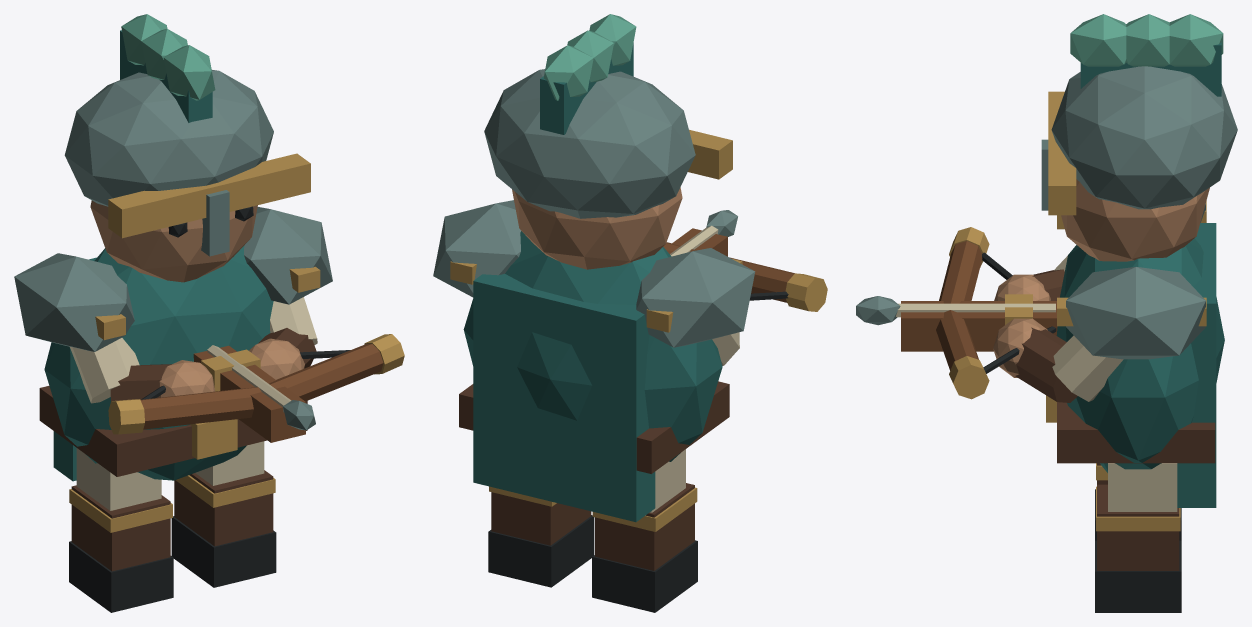
File: frontier-squad.glb
3 views of the same model, side by side, from view 1: azimuth 30°, elevation 25°; view 2: azimuth 150°, elevation 25°; view 3: azimuth 270°, elevation 25° (orthographic). The views are drawn at different scales.
Visible parts, largest first — view 1: surface-squad-body, surface-squad-weapon, surface-squad-left-foot, surface-squad-right-foot; view 2: surface-squad-body, surface-squad-left-foot, surface-squad-right-foot, surface-squad-weapon; view 3: surface-squad-body, surface-squad-weapon, surface-squad-right-foot.
Part boxes in pixels (x1=…): surface-squad-body: x1=14, y1=14, x2=332, y2=481; surface-squad-weapon: x1=70, y1=297, x2=404, y2=442; surface-squad-left-foot: x1=69, y1=448, x2=173, y2=612; surface-squad-right-foot: x1=171, y1=441, x2=276, y2=587; surface-squad-body: x1=433, y1=14, x2=755, y2=522; surface-squad-left-foot: x1=592, y1=449, x2=697, y2=612; surface-squad-right-foot: x1=488, y1=486, x2=594, y2=587; surface-squad-weapon: x1=663, y1=210, x2=827, y2=365; surface-squad-body: x1=1041, y1=14, x2=1237, y2=507; surface-squad-weapon: x1=856, y1=227, x2=1123, y2=402; surface-squad-right-foot: x1=1095, y1=463, x2=1181, y2=612.
Size of the model in its own units: 1.61 by 2.84 by 1.76.
